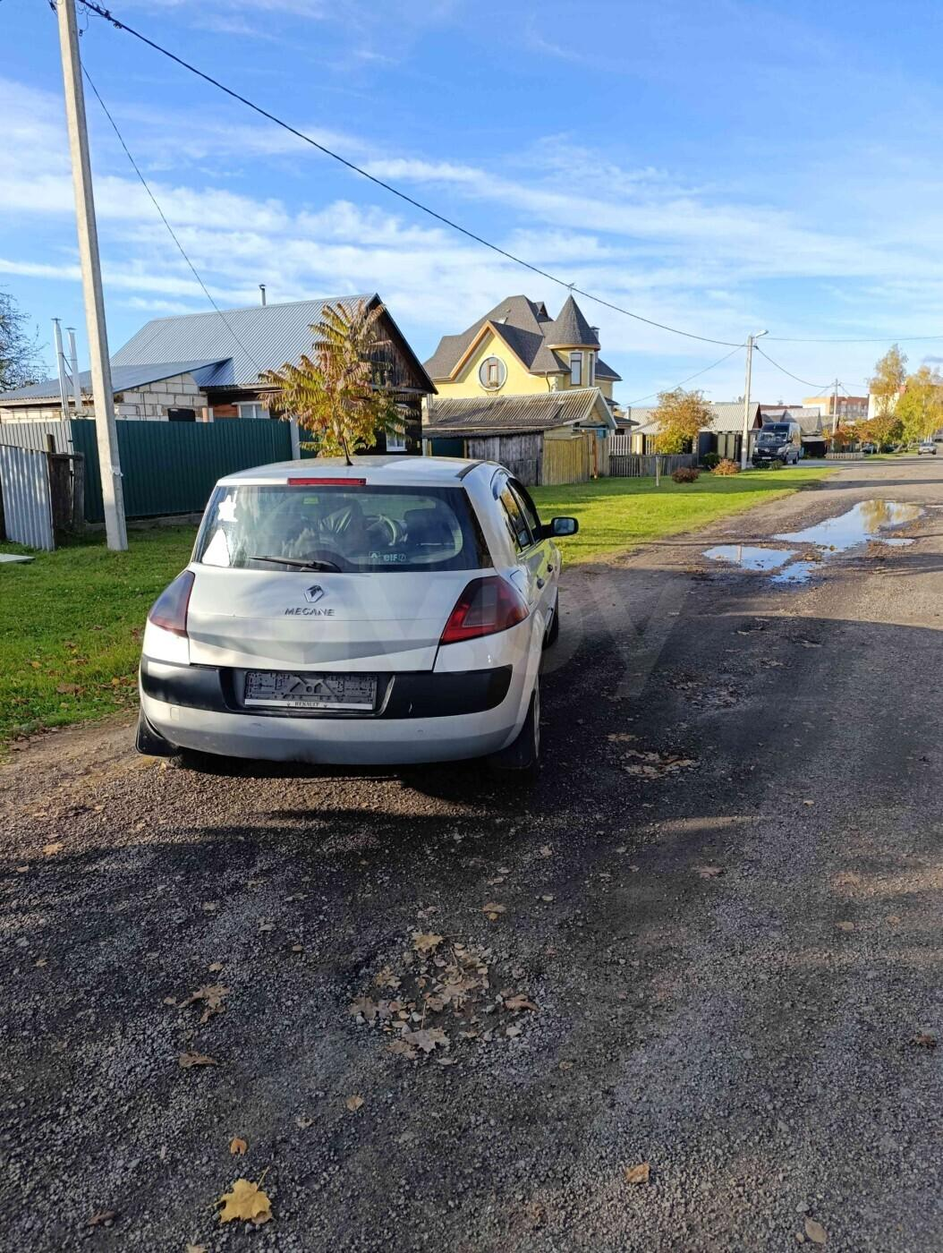Megane_2002-2006: (125, 449, 567, 764)
